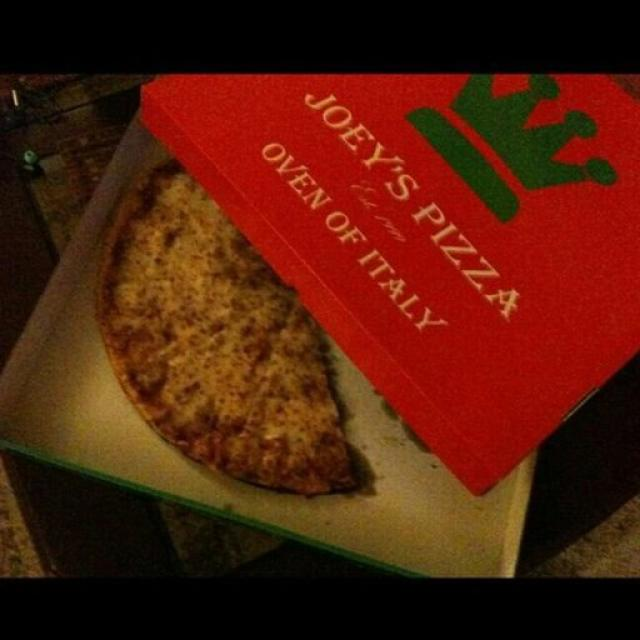Pizza: (104, 159, 365, 498)
